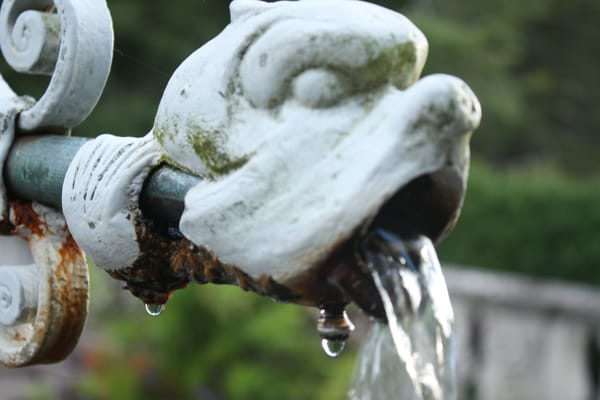sandwich: (30, 0, 487, 393)
